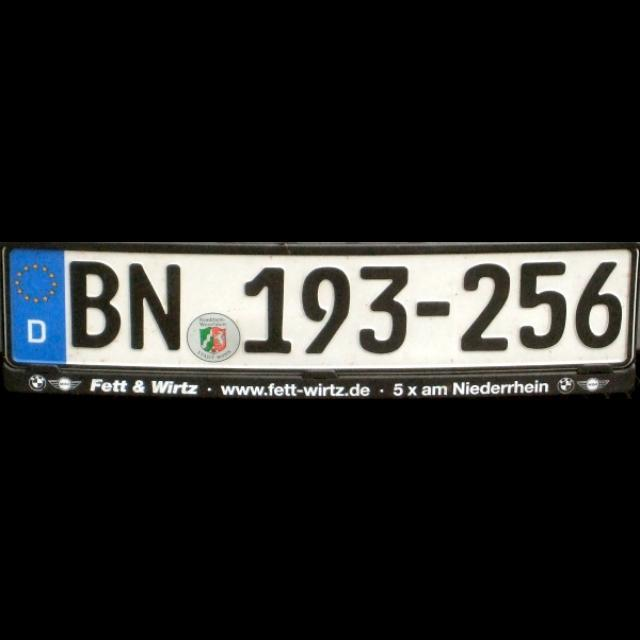license-plates: (1, 244, 640, 398)
